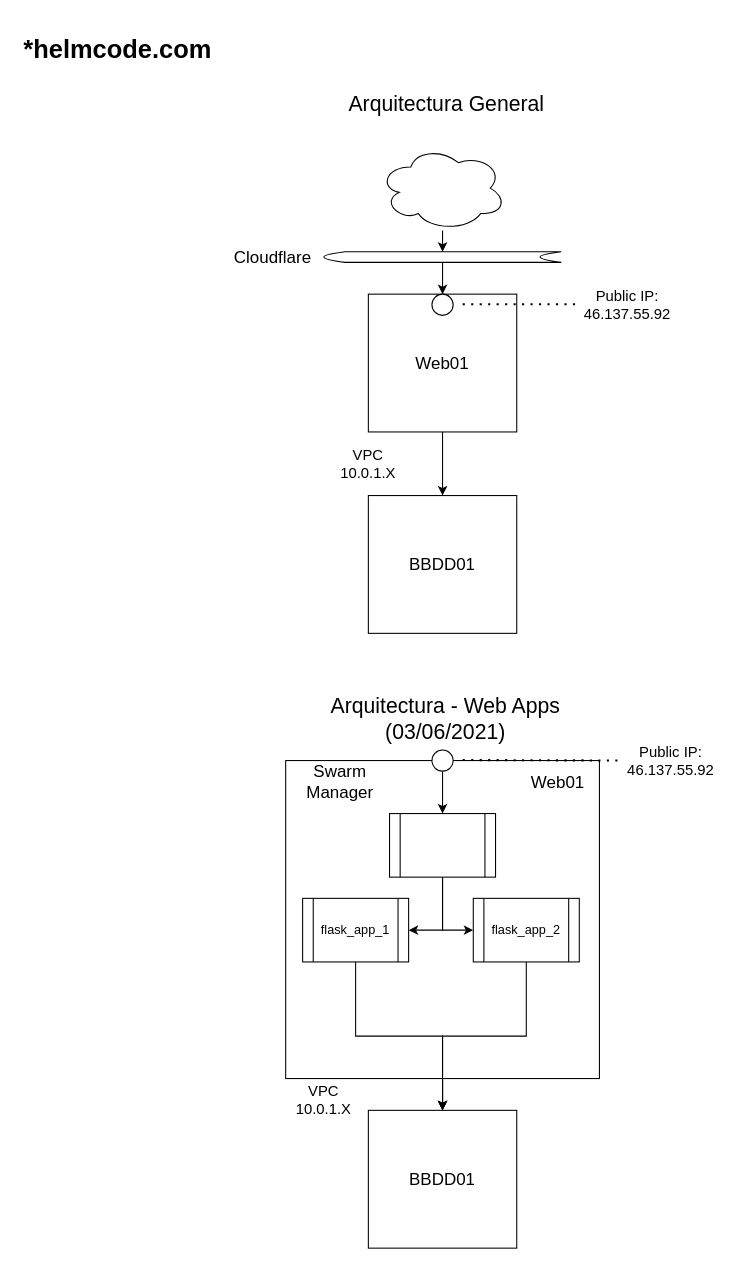
Some shapes in this 737 by 1267 pixel diagram are drawn without their labels. The shapes that lost their labels are listed below. From the top down, each one's centre as x and y in pixels, then its label:
At (442,188): "Internet".
At (442,844): "nginx".
